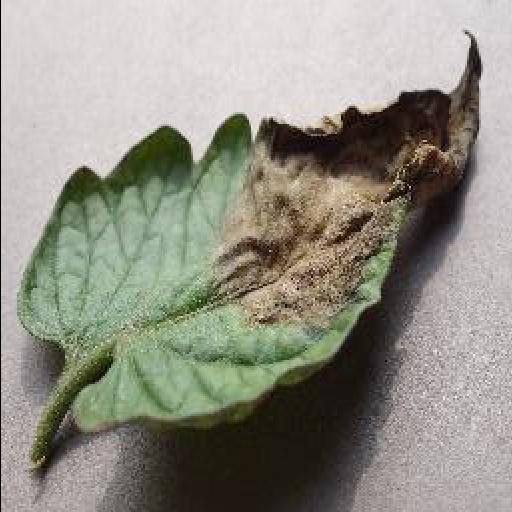disease_tomato: (17, 32, 487, 438)
